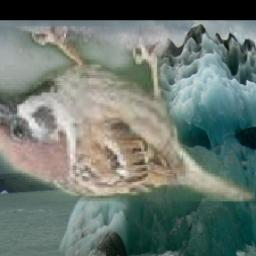Sparrow: (0, 27, 255, 202)
